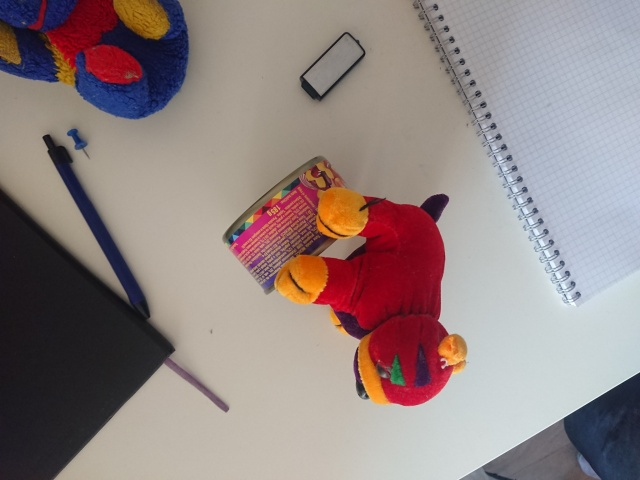Giana Tuna Salad Mexico 185g: (219, 152, 367, 298)
